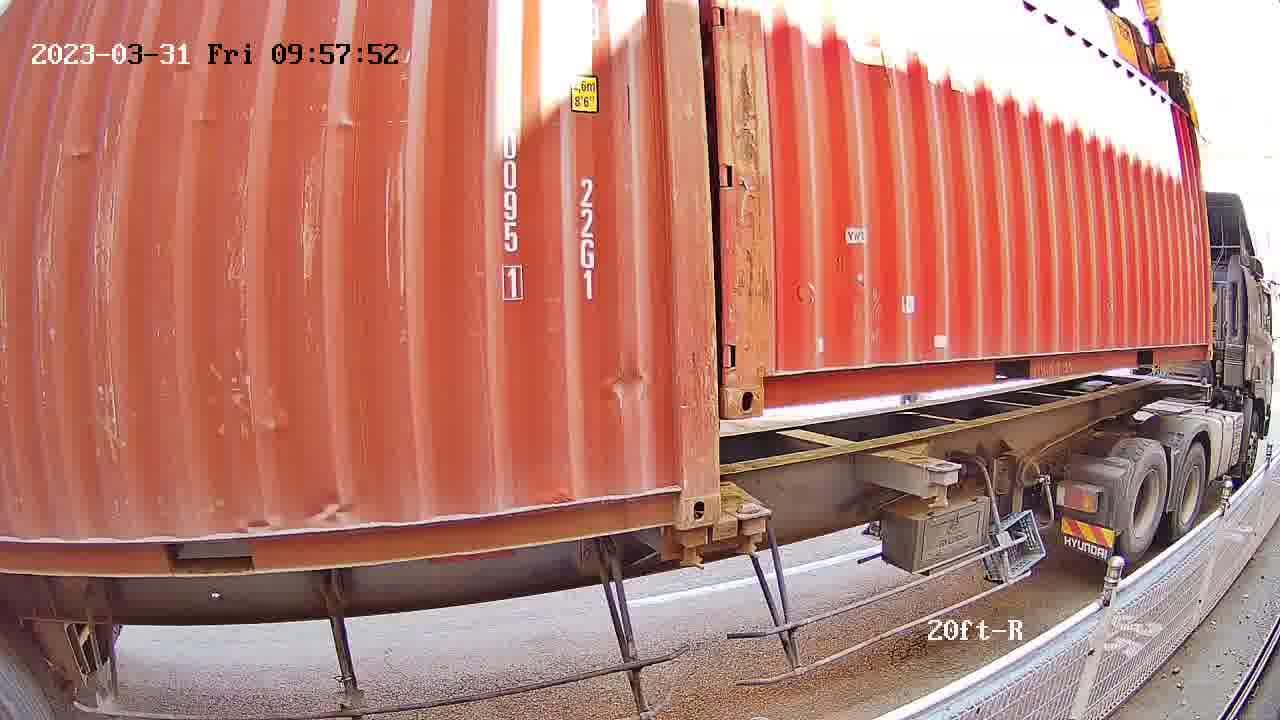Cone: (731, 503, 771, 563), (671, 526, 711, 573)
Hole_L: (723, 347, 801, 419)
Hole_R: (636, 451, 722, 529)
Tire: (1119, 442, 1167, 558), (1172, 445, 1205, 534)
